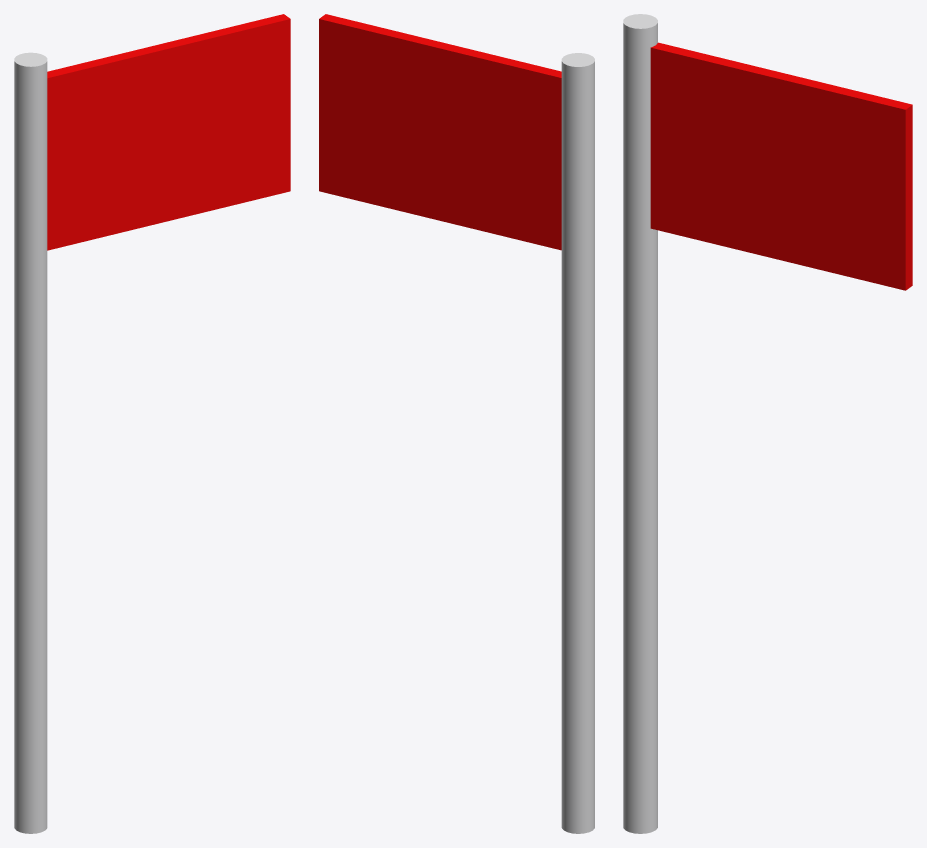
The model's file is red_flag.fbx.
3 views of the same model, side by side, from view 1: azimuth 30°, elevation 25°; view 2: azimuth 150°, elevation 25°; view 3: azimuth 330°, elevation 25° (orthographic). The views are drawn at different scales.
Parts seen in each view (by area): view 1: RedFlag; view 2: RedFlag; view 3: RedFlag.
Boxes of the visible parts, x1,y1,x2,y2 form: RedFlag: [14, 14, 290, 833]; RedFlag: [319, 14, 594, 833]; RedFlag: [623, 14, 912, 833].
Size of the model in its own units: 9.29 by 25.13 by 0.9848.
